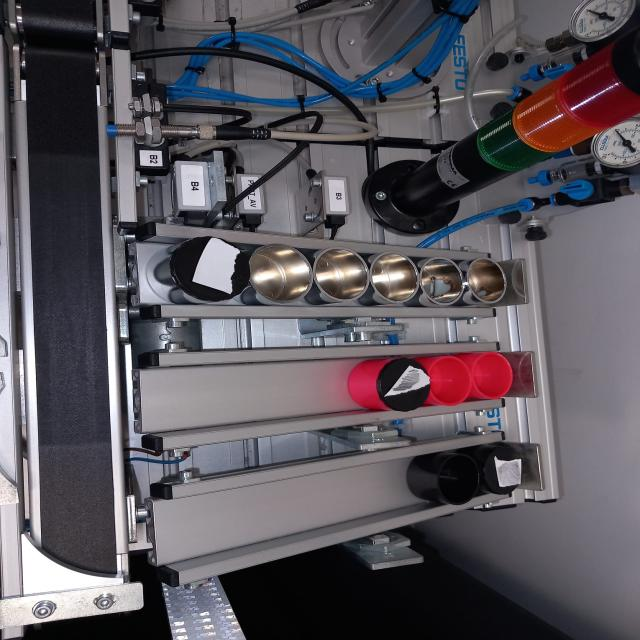NoLid: (246, 243, 314, 306), (310, 246, 371, 309), (413, 450, 481, 506), (364, 252, 420, 308), (415, 253, 467, 305), (464, 349, 516, 400), (421, 353, 471, 405), (462, 254, 504, 307)
